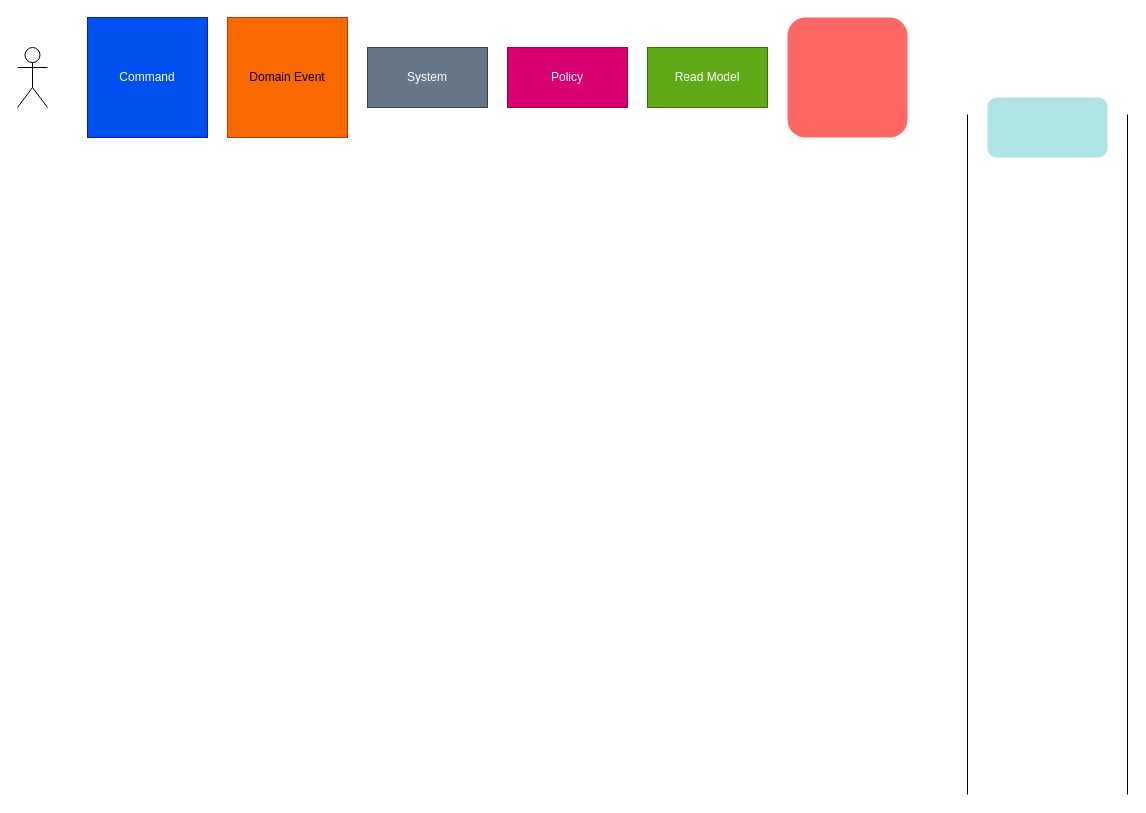
The diagram is 1146 pixels wide and 813 high, and some of its shapes have lost their labels. Here are the shapes that lost their labels. From the top down, the box of each, then its label:
(16, 46, 48, 108): Actor
(787, 17, 907, 137): Hotspot
(987, 97, 1107, 157): Entity
